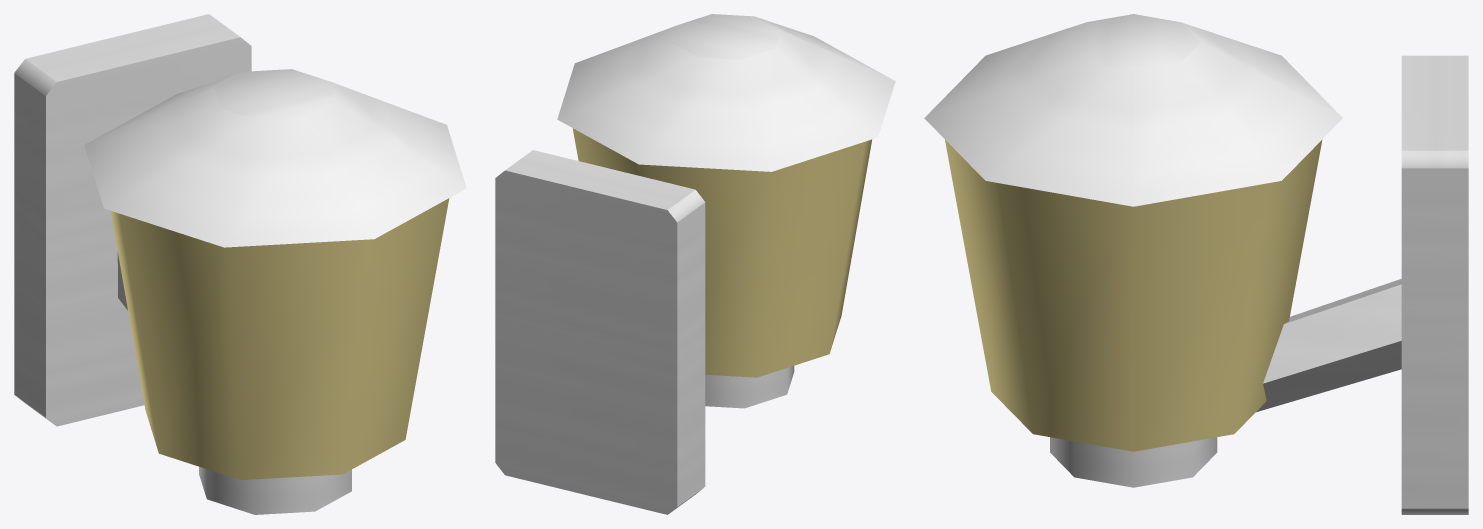
File: wall_lamp.obj
The picture shows the model from 3 angles, left to right: view 1: azimuth 30°, elevation 25°; view 2: azimuth 150°, elevation 25°; view 3: azimuth 270°, elevation 25°; orthographic projection. The views are drawn at different scales.
Visible parts, largest first — view 1: retained_26, retained_35, wall_mount_plate, retained_17; view 2: wall_mount_plate, retained_35, retained_26, retained_17; view 3: retained_26, retained_35, wall_mount_plate, retained_5, retained_17.
Part boxes in pixels (x1=…): retained_26: x1=110, y1=198, x2=449, y2=479; retained_35: x1=84, y1=69, x2=466, y2=247; wall_mount_plate: x1=14, y1=14, x2=251, y2=426; retained_17: x1=199, y1=466, x2=351, y2=514; wall_mount_plate: x1=495, y1=150, x2=705, y2=514; retained_35: x1=557, y1=14, x2=895, y2=171; retained_26: x1=572, y1=128, x2=872, y2=377; retained_17: x1=705, y1=366, x2=794, y2=408; retained_26: x1=945, y1=140, x2=1322, y2=451; retained_35: x1=924, y1=14, x2=1342, y2=206; wall_mount_plate: x1=1401, y1=55, x2=1468, y2=514; retained_5: x1=1256, y1=279, x2=1401, y2=412; retained_17: x1=1050, y1=437, x2=1217, y2=487.
Bounding box in the file's own units: 0.25 × 0.28 × 0.325.
